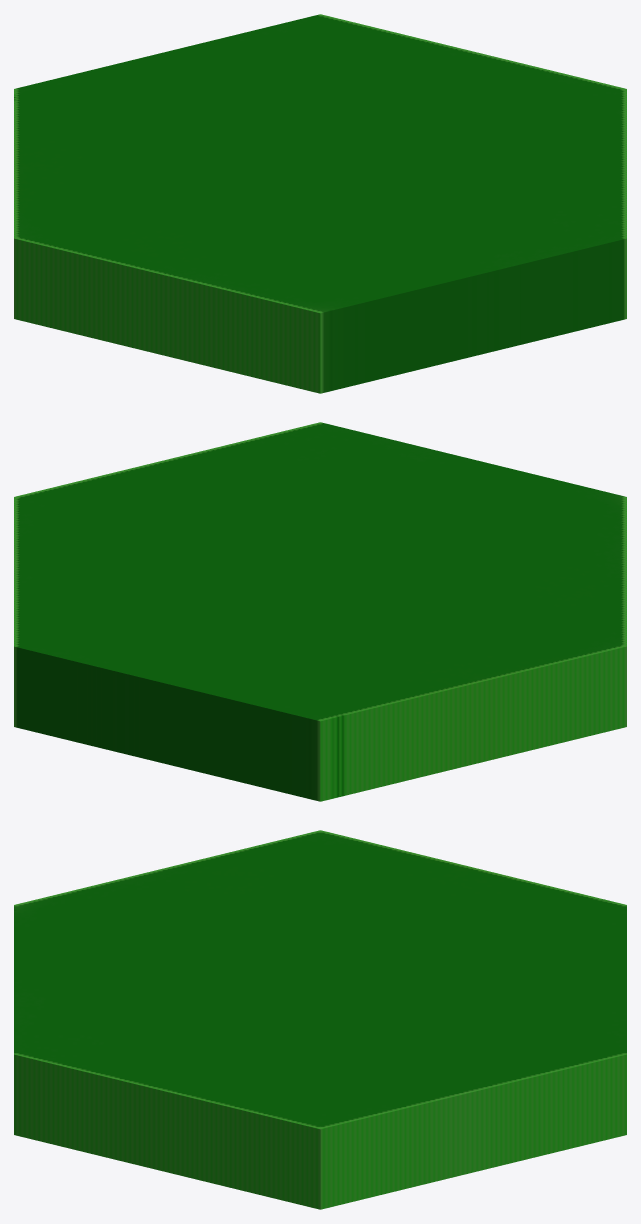
Rendered from rice_hex.obj.
3 views of the same model, one above another, from view 1: azimuth 30°, elevation 25°; view 2: azimuth 150°, elevation 25°; view 3: azimuth 270°, elevation 25° (orthographic).
Parts seen in each view (by area): view 1: pCylinder1; view 2: pCylinder1; view 3: pCylinder1.
Boxes of the visible parts, bbox=[...] form: pCylinder1: bbox=[14, 14, 626, 393]; pCylinder1: bbox=[14, 422, 626, 801]; pCylinder1: bbox=[14, 830, 626, 1209].
Size of the model in its own units: 6.92 by 0.8684 by 6.
